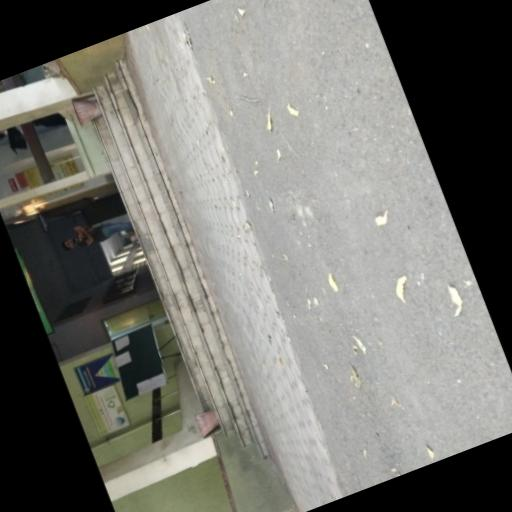stairs: (93, 59, 267, 457)
